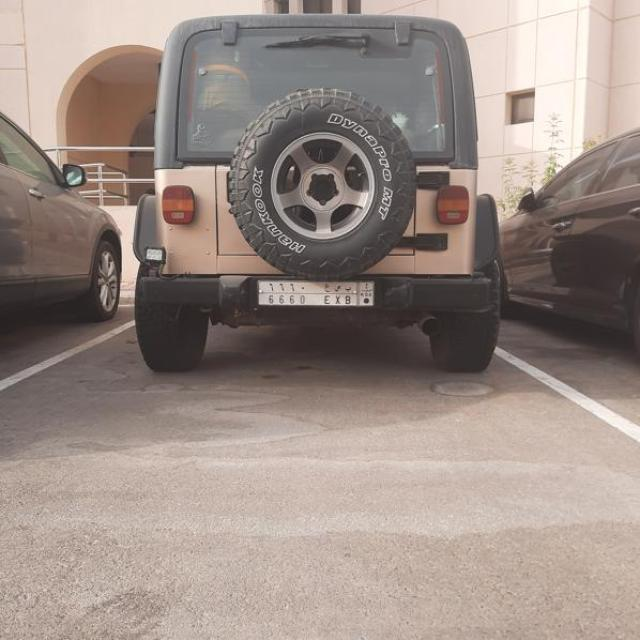license_plate: (257, 279, 374, 306)
